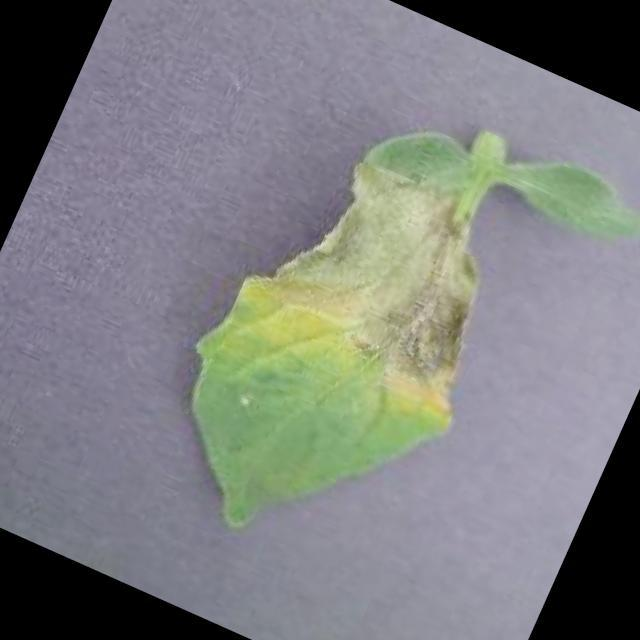Tomato late blight leaf: (126, 48, 640, 640)
